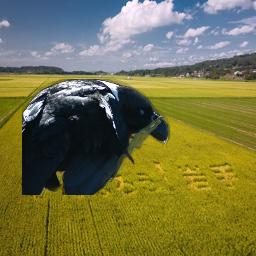Crow: (22, 79, 171, 195)
